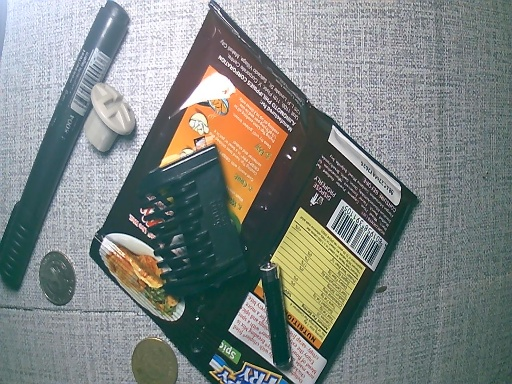metal: (261, 261, 290, 374), (115, 336, 181, 384), (36, 247, 83, 309)
plastic: (90, 6, 425, 384)
trash: (1, 2, 129, 282), (144, 145, 248, 299), (82, 83, 137, 154)
